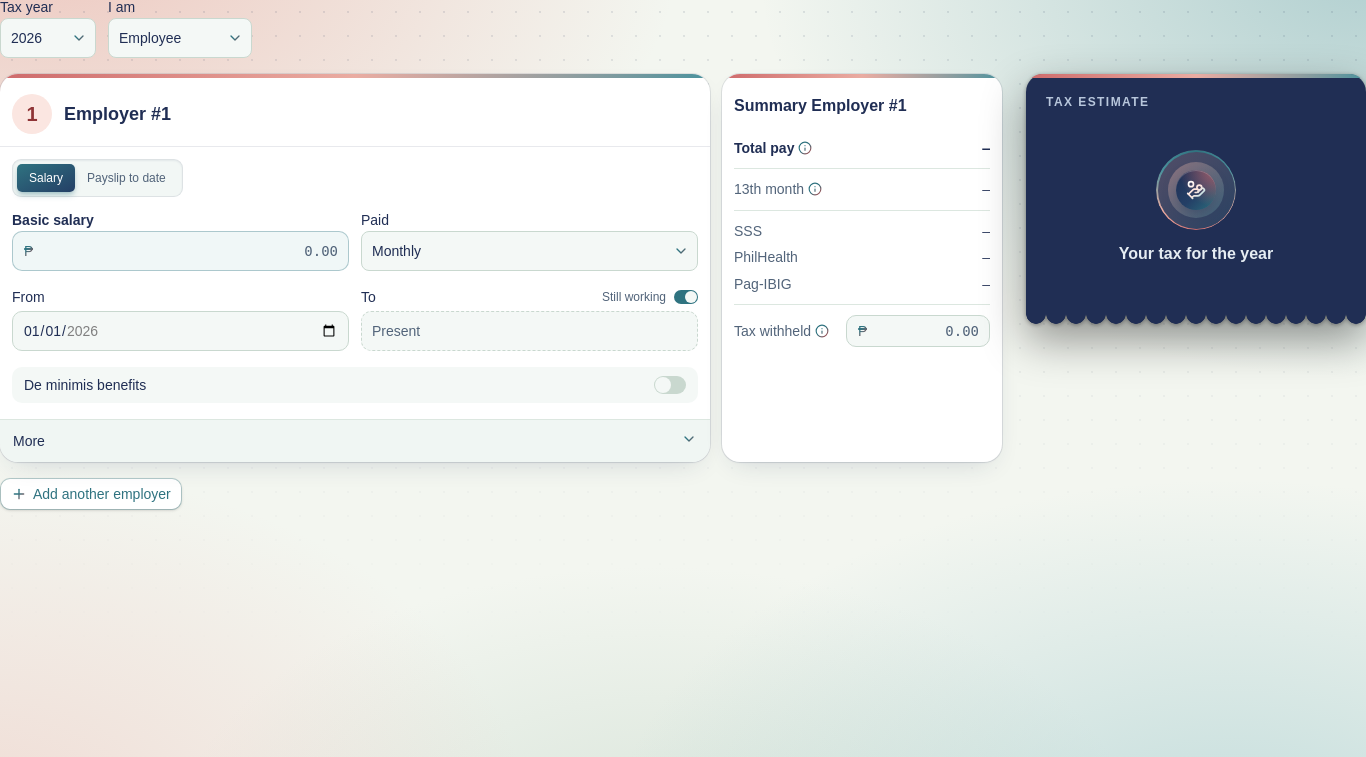
Test case: MyYear: employers › adds and removes an employer
Click the button "Add another employer" at (91, 494), box [0,478,182,510]
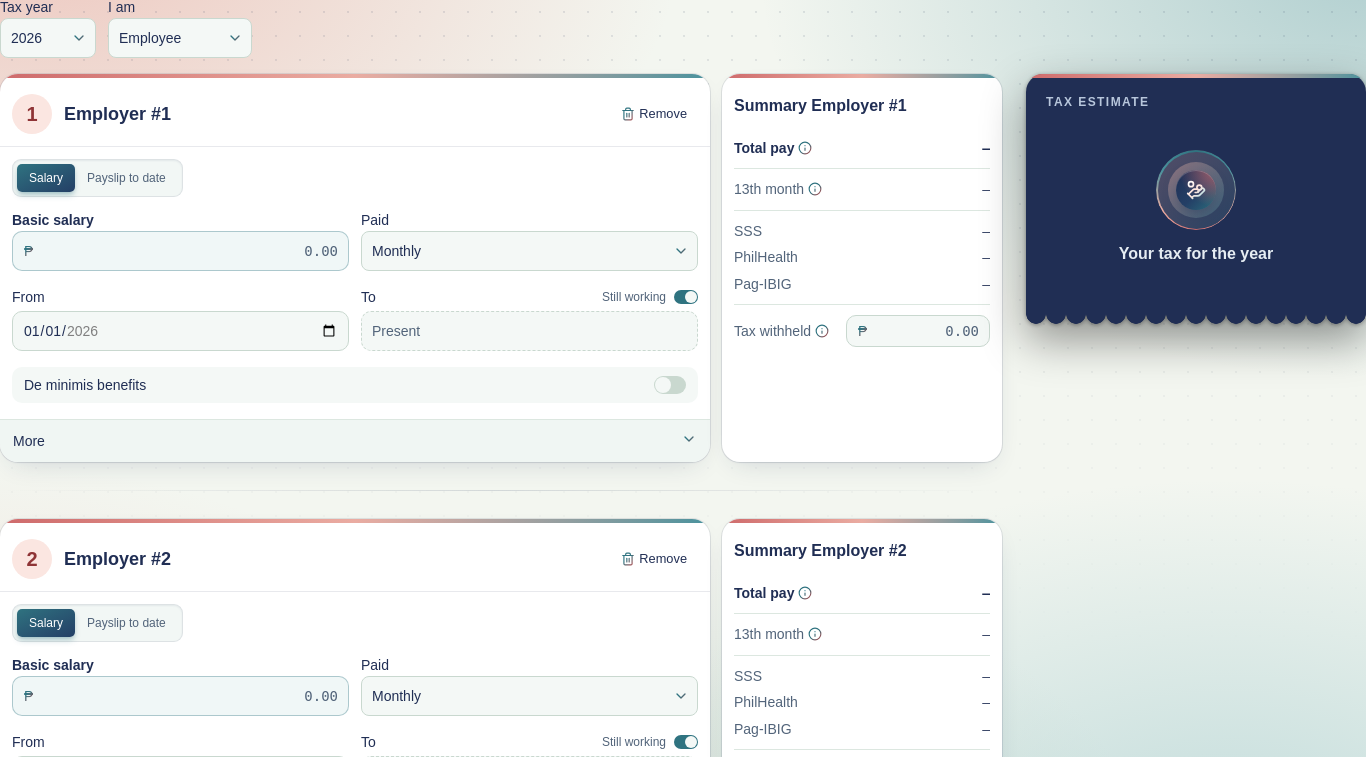
Expected: the text "Employer #2" is shown, [64,548,171,570]
Click the button with aria-label "Remove employer #1" at (654, 114), box [610,100,698,128]
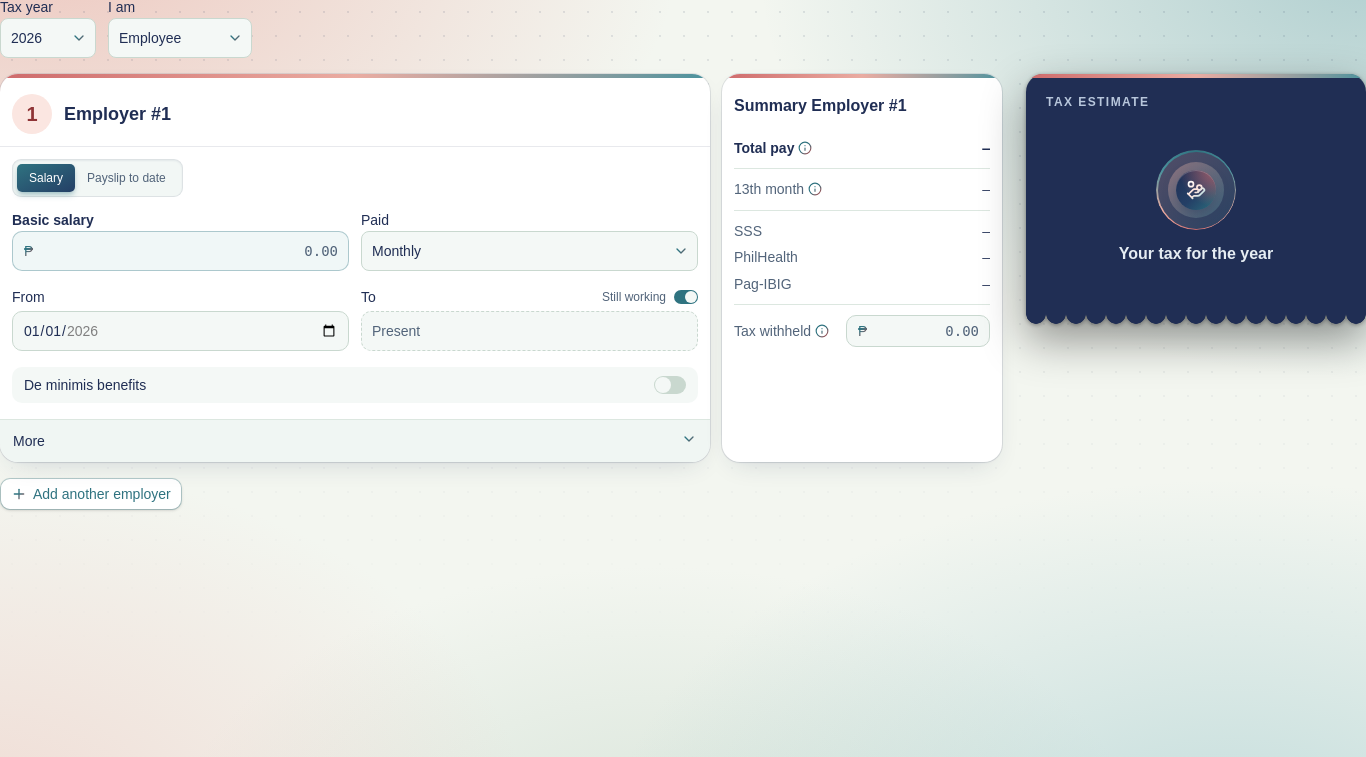
Expected: the text "Employer #1" is shown, [64,103,171,125]
Expected: the text "Employer #2" is gone
